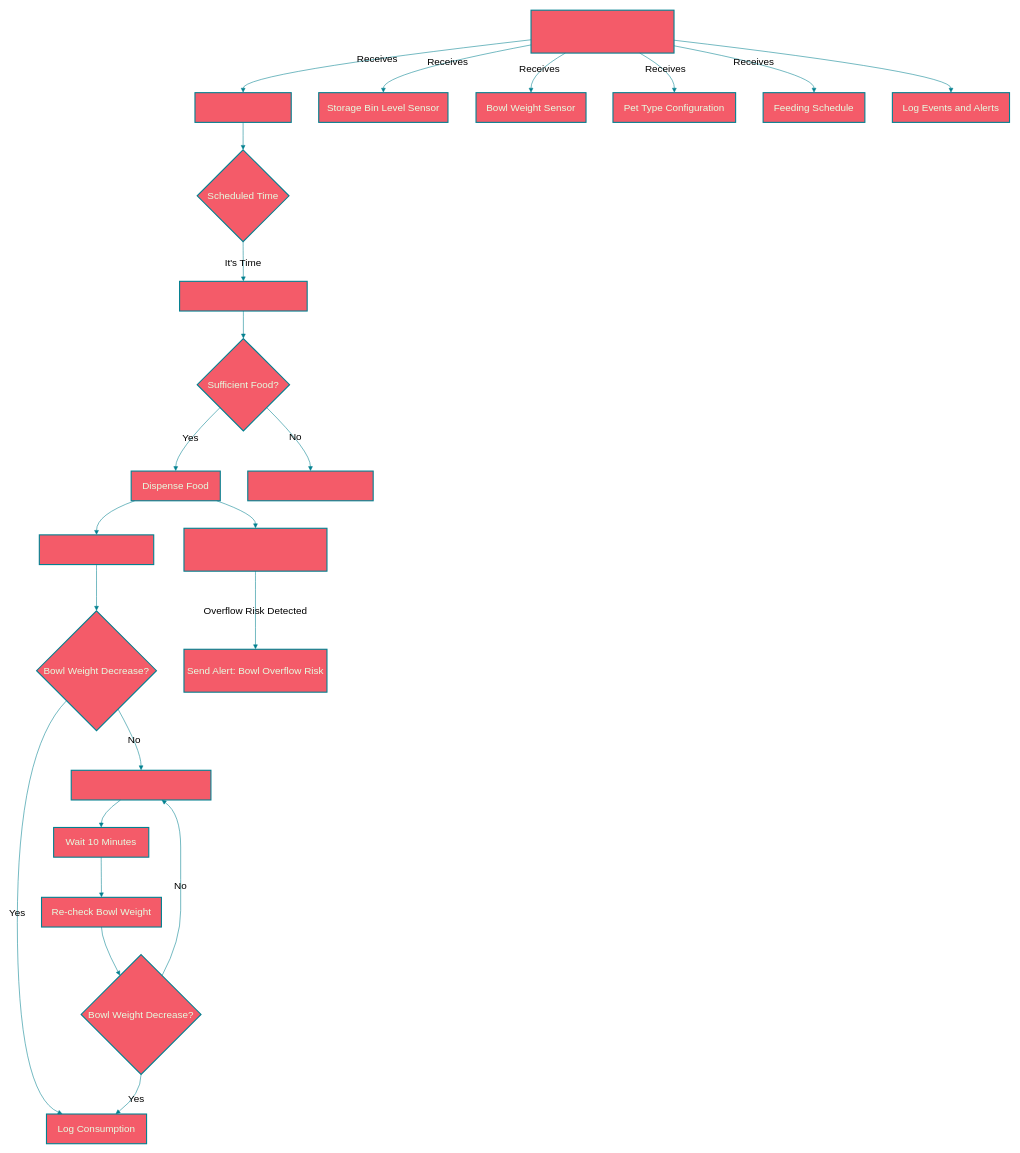
This 1020x1153 diagram has some shape labels left out. Here are the shapes that lost their labels. From the top down, the box of each, then its label:
(530, 9, 674, 53): Automated Pet Feeder System
(194, 92, 292, 123): Real-Time Clock
(179, 280, 307, 311): Check Storage Bin Level
(247, 470, 373, 501): Send Alert: Empty Bowl
(38, 534, 154, 565): Monitor Bowl Weight
(183, 527, 327, 571): Safety Check: Bowl Overflow Risk
(70, 769, 211, 800): Send Alert: Food Not Eaten
